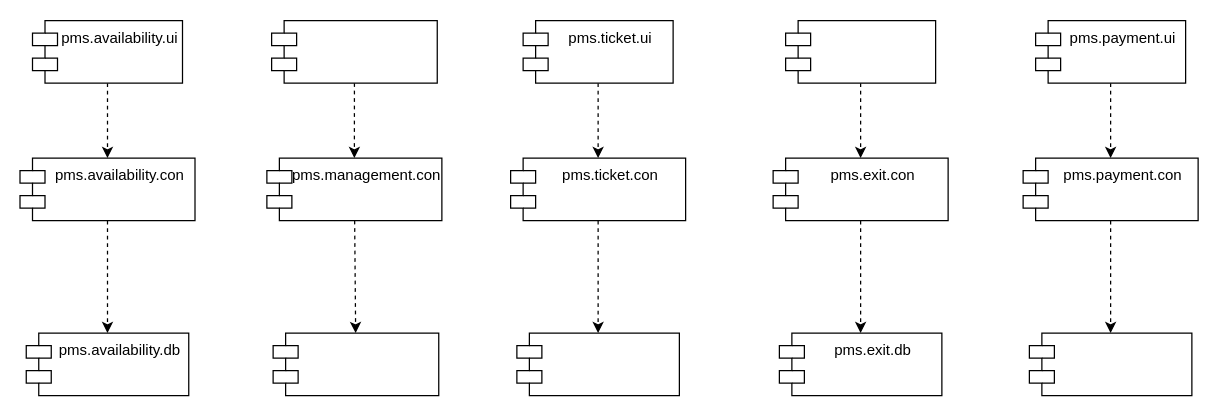
The diagram is 1219 pixels wide and 416 high, and some of its shapes have lost their labels. The shapes that lost their labels are listed below. From the top down, each one's box as (x1, y1, x2, y2) in pixels, then its label:
(270, 19, 437, 83): pms.management.ui
(784, 19, 936, 83): pms.exit.ui
(272, 332, 439, 396): pms.management.db
(516, 332, 679, 396): pms.ticket.db
(1028, 332, 1192, 396): pms.payment.db
